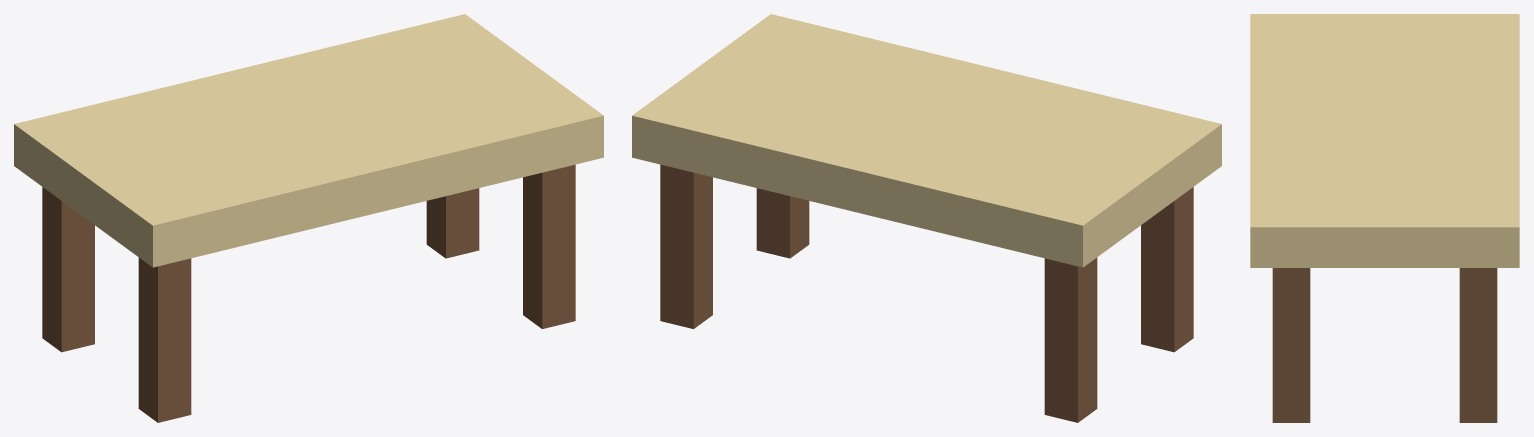
The model's file is prop_altar.glb.
3 views of the same model, side by side, from view 1: azimuth 30°, elevation 25°; view 2: azimuth 150°, elevation 25°; view 3: azimuth 270°, elevation 25° (orthographic). The views are drawn at different scales.
Visible parts, largest first — view 1: prop_altar; view 2: prop_altar; view 3: prop_altar.
Part boxes in pixels (x1,y1,x2,y2): prop_altar: (14, 14, 603, 422); prop_altar: (632, 14, 1221, 422); prop_altar: (1250, 14, 1519, 422).
Size of the model in its own units: 1.35 by 0.6 by 0.72.
Materials: 1 (1 with a texture image).
